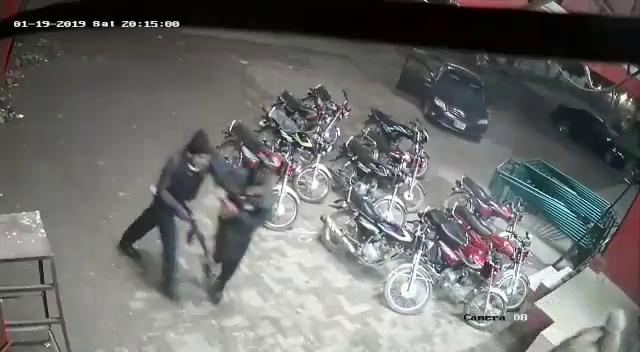weapon: (177, 192, 211, 260)
